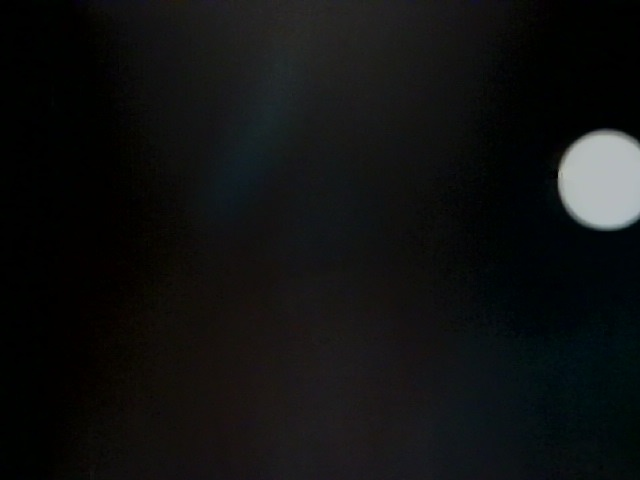KHSLJ: (1, 383, 264, 476)
